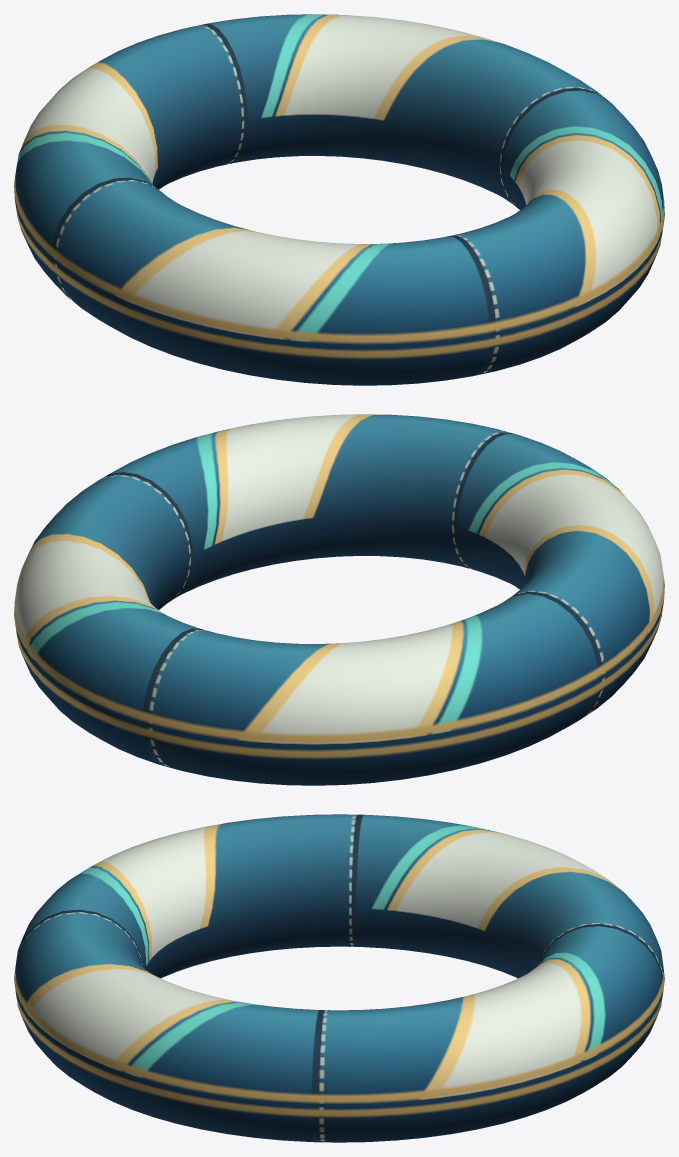
Rendered from rider-tube.glb.
3 renders of one model, top to bottom at view 1: azimuth 30°, elevation 25°; view 2: azimuth 150°, elevation 25°; view 3: azimuth 270°, elevation 25°, orthographic. The views are drawn at different scales.
Visible parts, largest first — view 1: rider-tube; view 2: rider-tube; view 3: rider-tube.
Boxes of the visible parts, x1,y1,x2,y2 form: rider-tube: (14, 14, 664, 385); rider-tube: (14, 414, 664, 785); rider-tube: (14, 814, 664, 1142).
Bounding box in the file's own units: 2.66 × 0.6 × 2.92.
Materials: 1 (1 with a texture image).
